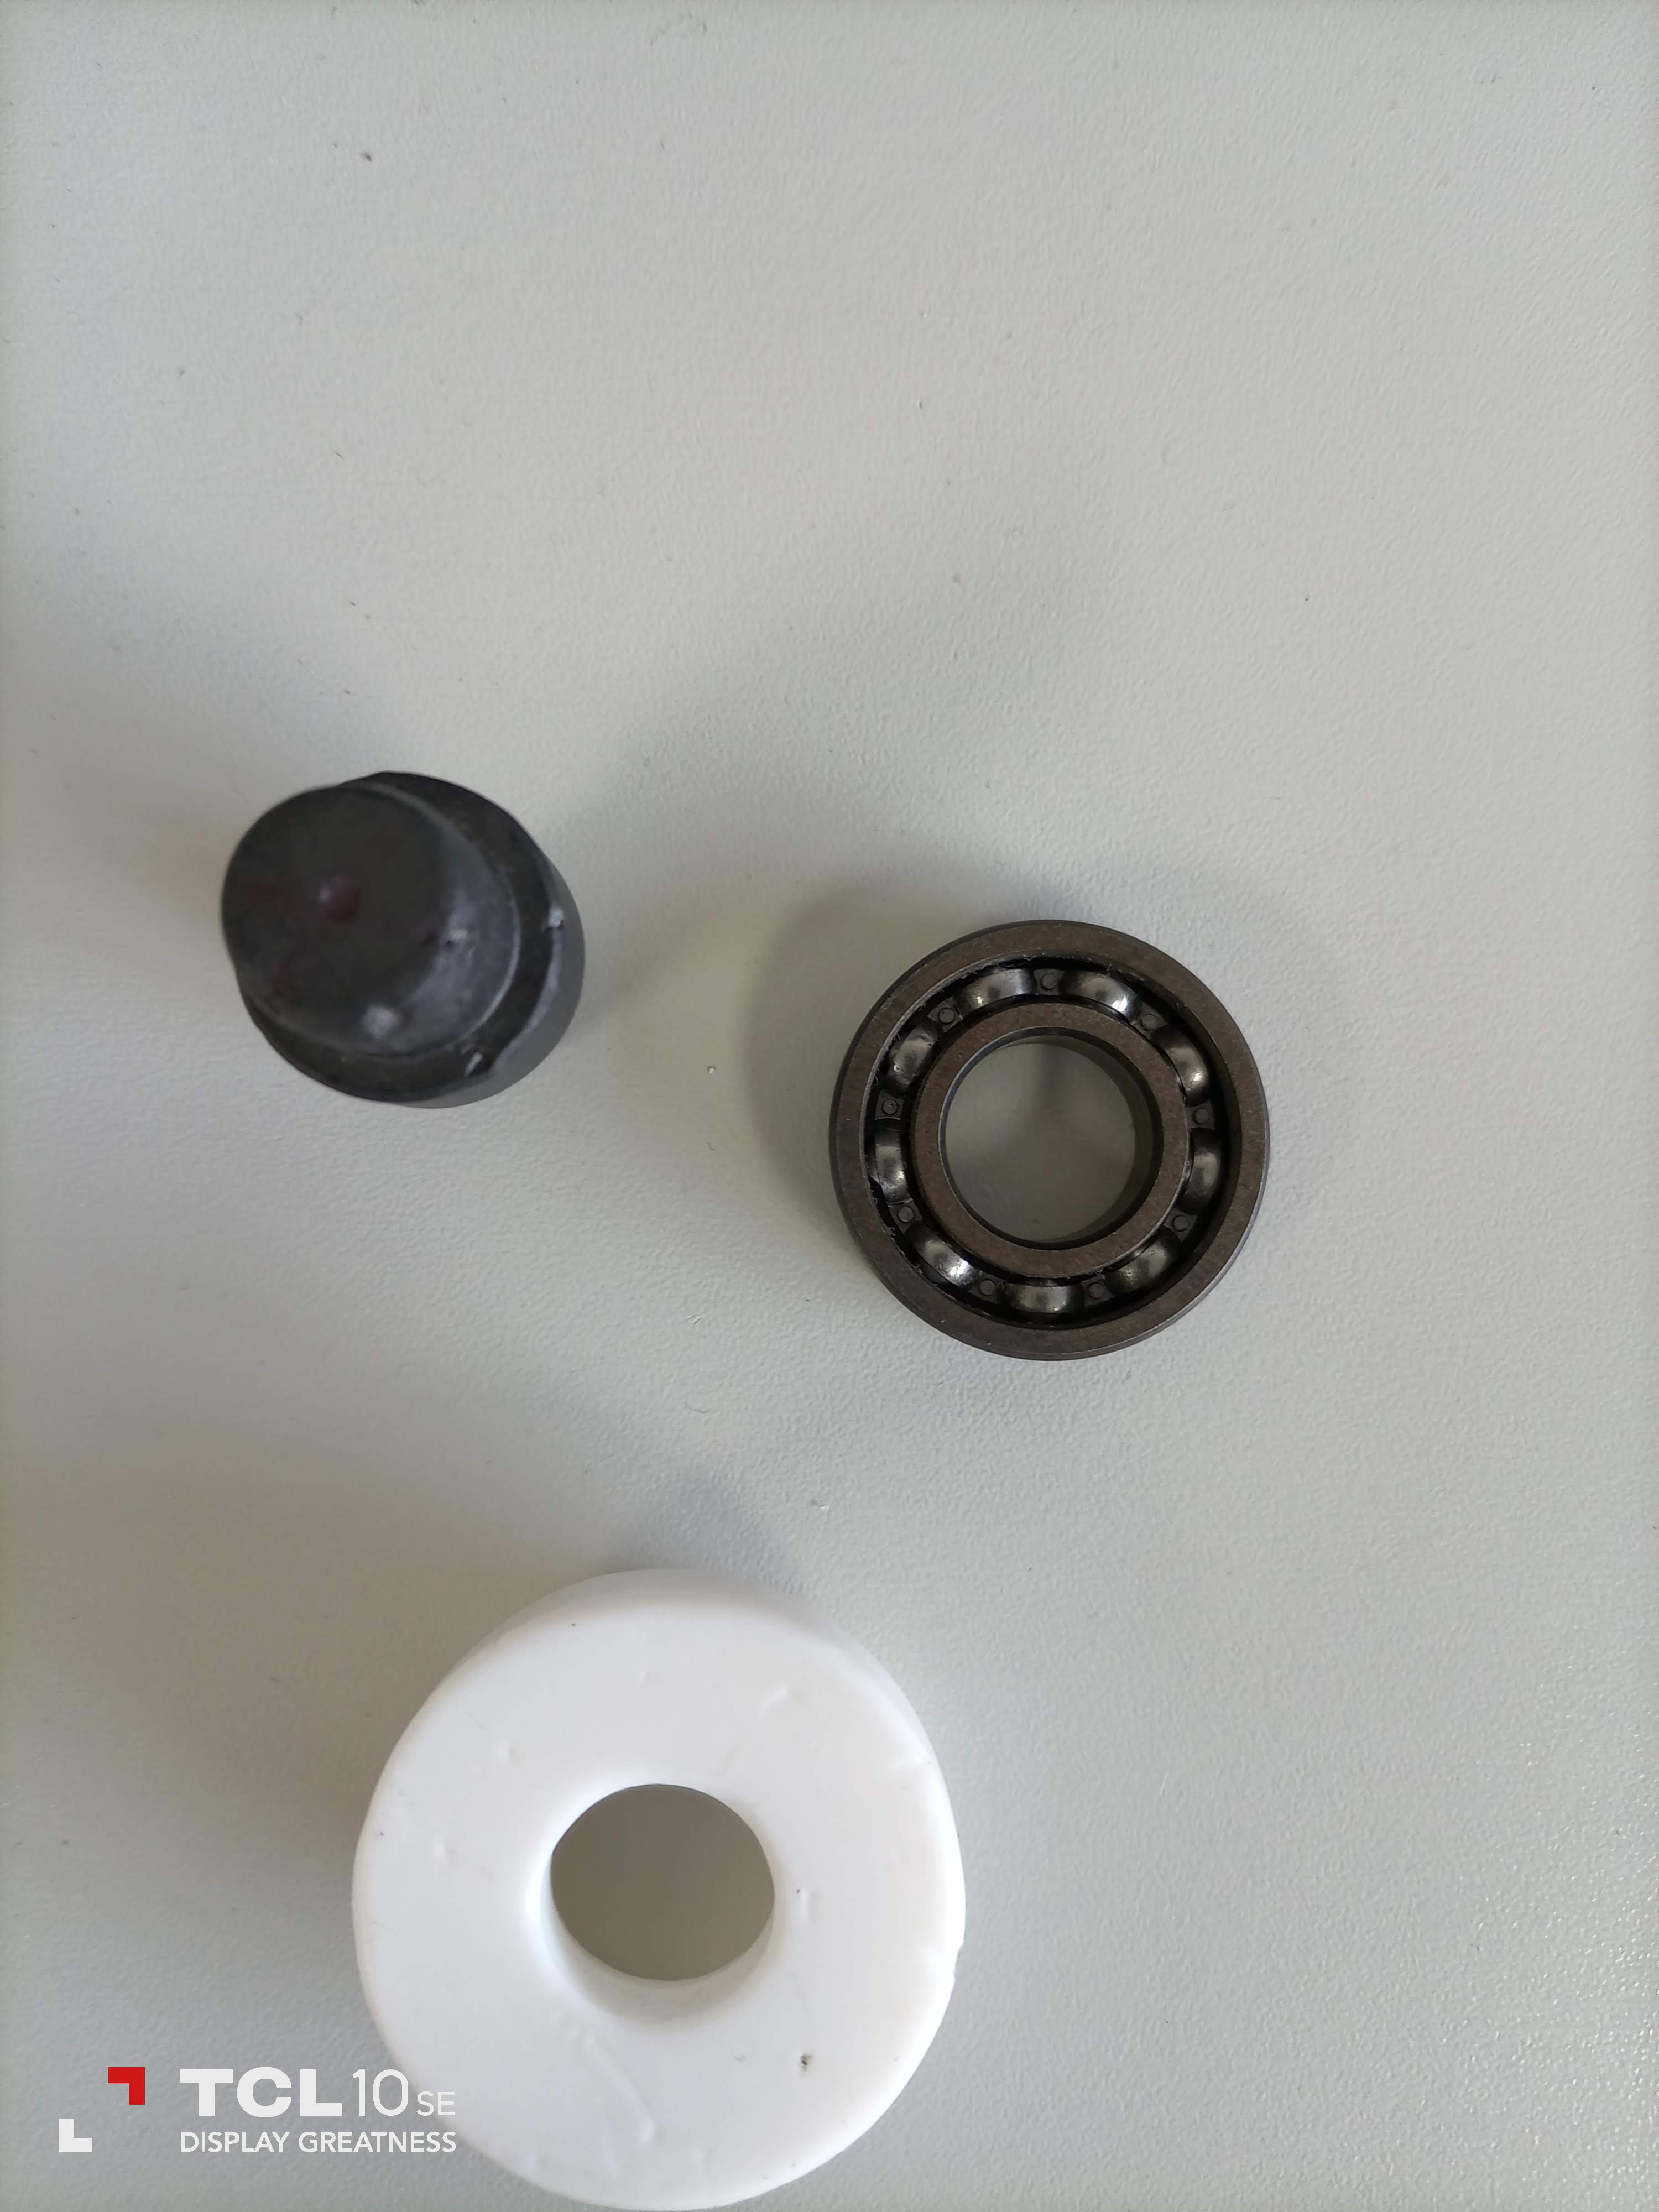Roda: (830, 907, 1279, 1364), (228, 770, 586, 1083)
Tapa: (347, 1571, 976, 2212)
